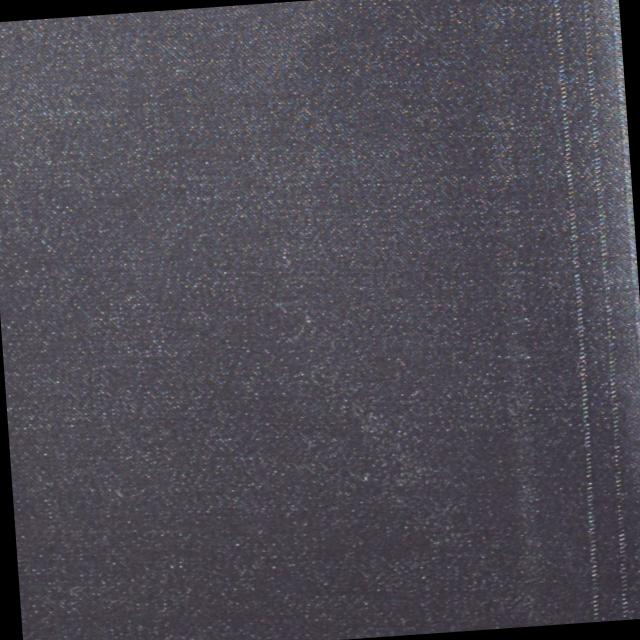Warp_Weft: (544, 0, 608, 621), (574, 0, 635, 619), (603, 0, 640, 617)
